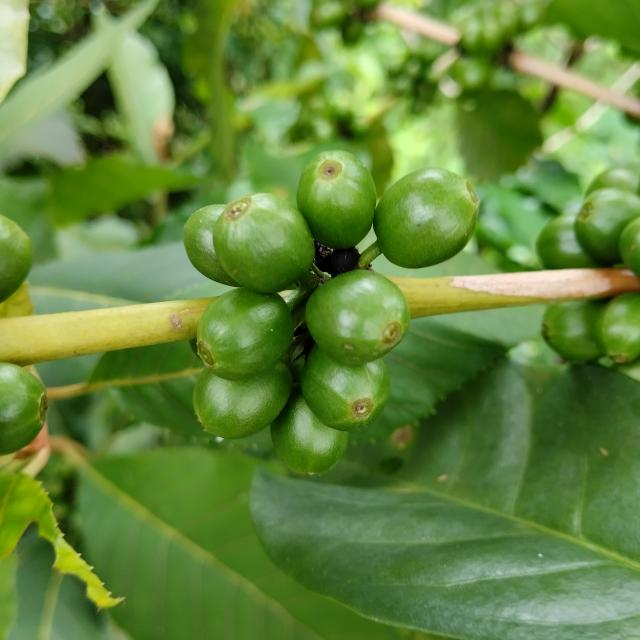green: (373, 168, 480, 268), (213, 193, 315, 293), (305, 269, 411, 365), (197, 288, 294, 381), (297, 149, 376, 249), (301, 345, 391, 432), (193, 361, 292, 439), (271, 388, 349, 475), (575, 188, 640, 265), (183, 204, 241, 287), (0, 363, 47, 456), (543, 300, 607, 363), (538, 215, 598, 269), (598, 293, 640, 363), (0, 215, 32, 302), (586, 167, 640, 196), (620, 217, 640, 277)
